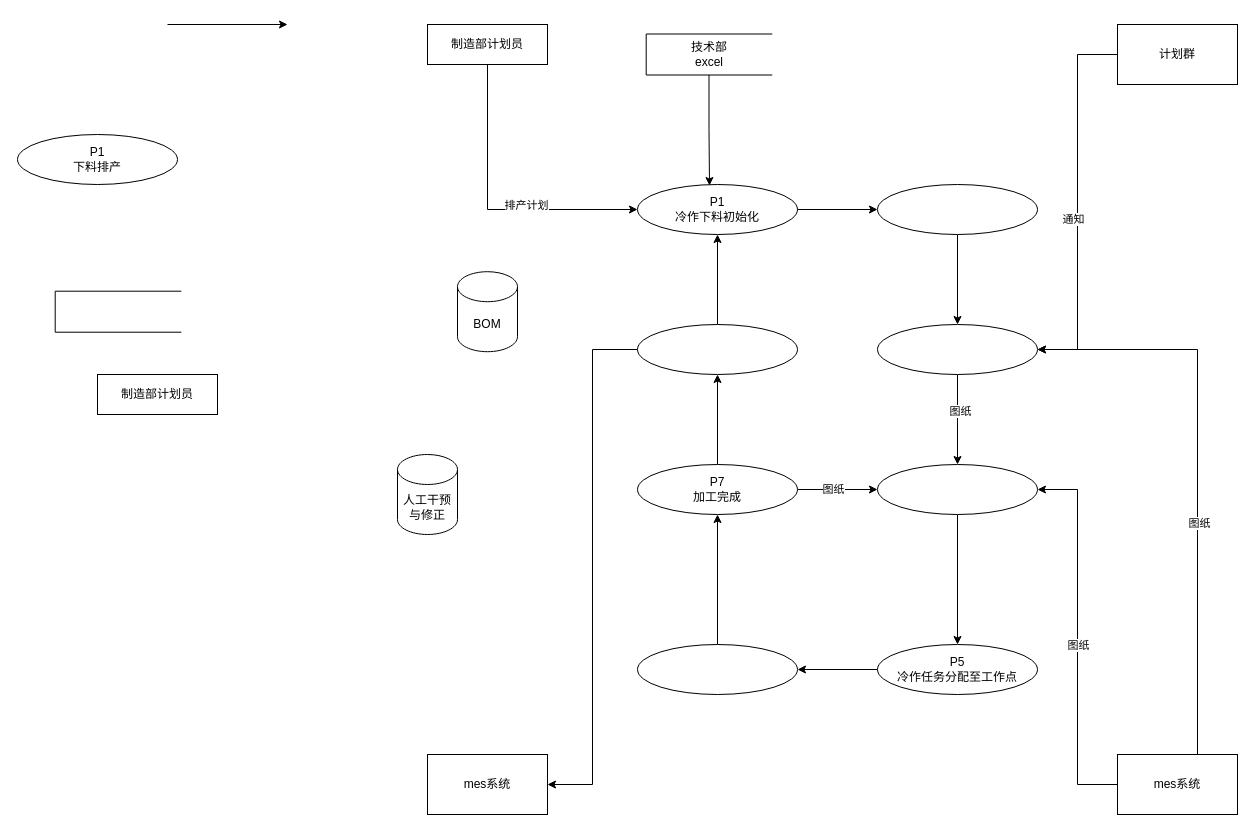
Some shapes in this 1255 by 832 pixel diagram are drawn without their labels. Here are the shapes that lost their labels. From the top down, the centre of each, then its label:
At (x=957, y=209): "P2 冷作车间任务调度".
At (x=717, y=349): "P8 冷作结果上传".
At (x=957, y=349): "P3 冷作车间任务图纸打印".
At (x=957, y=489): "P4 冷作车间任务分配至段长".
At (x=717, y=669): "P6 操作员冷作加工".
